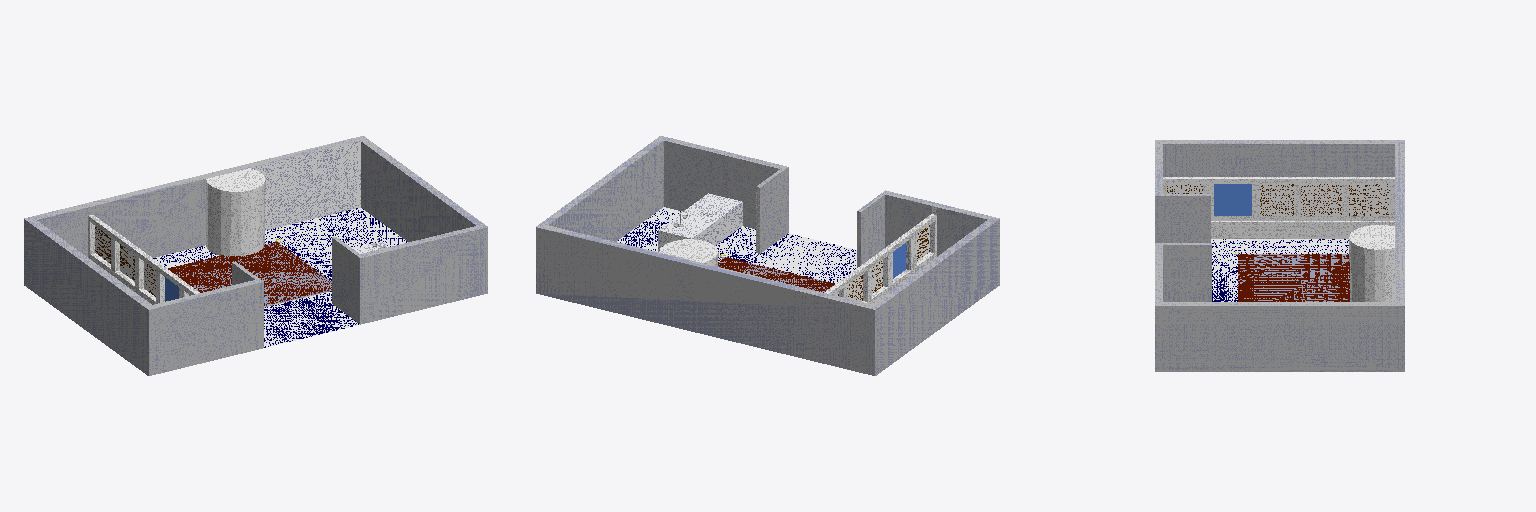
File: bank.obj
The picture shows the model from 3 angles: view 1: azimuth 30°, elevation 25°; view 2: azimuth 150°, elevation 25°; view 3: azimuth 270°, elevation 25°; orthographic projection.
Size of the model in its own units: 17450 by 3258 by 11119.